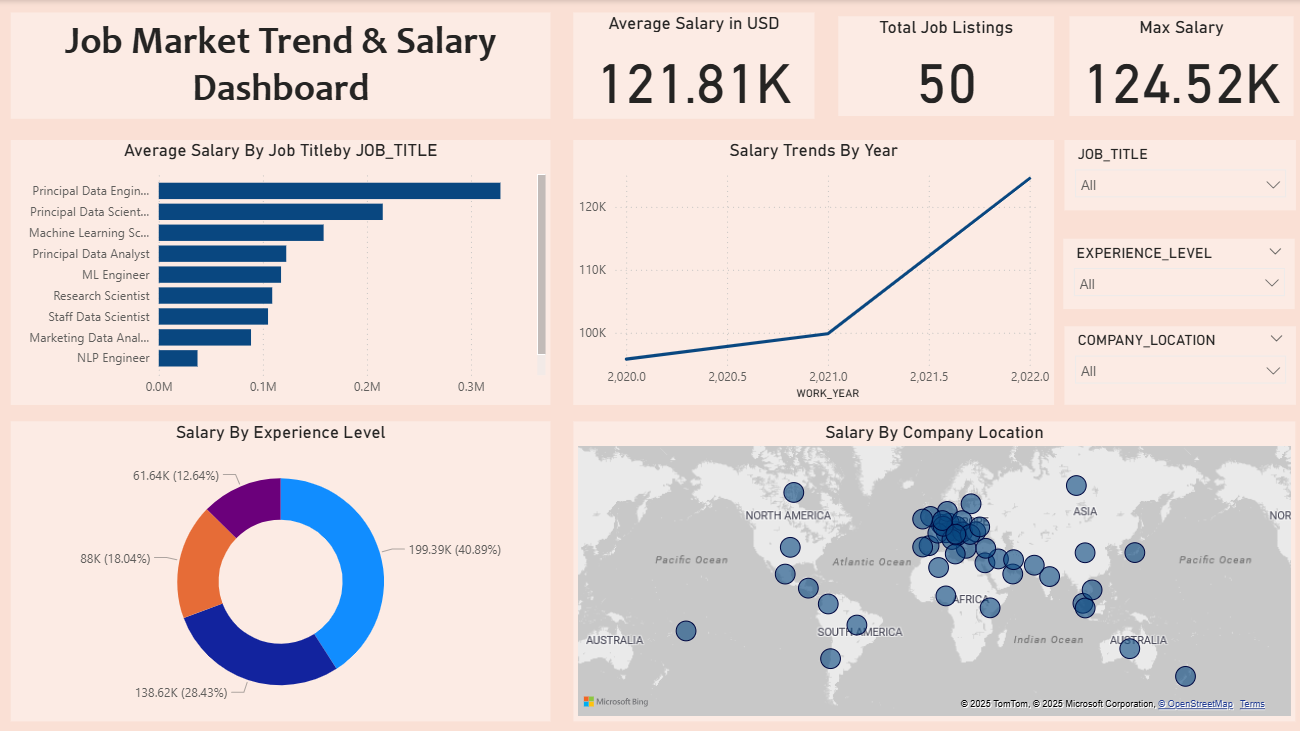

Layout of this report page (visuals, bound fields, positions):
{"tool":"powerbi","page":{"name":"Dashboard","canvas":[1280,720],"ordinal":0},"visuals":[{"type":"card","title":"Average Salary in USD","fields":{"Values":["AVG_SALARY_BY_JOB.Average Salary (USD)"]},"box":[564,12.3,236,104.3],"z":0},{"type":"card","title":"Total Job Listings","fields":{"Values":["REMOTE_SALARY_IMPACT.Total Job Listings"]},"box":[823.3,16.5,211.3,97.4],"z":1000},{"type":"card","title":"Max Salary","fields":{"Values":["AVG_SALARY_BY_JOB.Max Salary"]},"box":[1049.7,16.5,219.6,97.4],"z":2000},{"type":"barChart","title":"Average Salary By Job Titleby JOB_TITLE","fields":{"Category":["AVG_SALARY_BY_JOB.JOB_TITLE"],"Y":["Sum(AVG_SALARY_BY_JOB.AVG_SALARY_USD)"]},"box":[13.7,137.2,528.3,259.3],"z":3000},{"type":"donutChart","title":"Salary By Experience Level","fields":{"Y":["Sum(SALARY_BY_EXPERIENCE.AVG_SALARY_USD)"],"Category":["SALARY_BY_EXPERIENCE.EXPERIENCE_LEVEL"]},"box":[13.7,411.7,528.3,293.7],"z":4000},{"type":"map","title":"Salary By Company Location","fields":{"Size":["Sum(AVG_SALARY_BY_JOB.AVG_SALARY_USD)"],"Category":["SALARY_BY_LOCATION.COMPANY_LOCATION"]},"box":[564,411.7,706.7,293.7],"z":5000},{"type":"lineChart","title":"Salary Trends By Year","fields":{"Category":["SALARY_TREND_BY_YEAR.WORK_YEAR"],"Y":["Sum(SALARY_TREND_BY_YEAR.AVG_SALARY_USD)"]},"box":[564,137.2,470.7,259.3],"z":6000},{"type":"slicer","fields":{"Values":["SALARY_BY_EXPERIENCE.EXPERIENCE_LEVEL"]},"box":[1042.9,233.3,226.4,68.6],"z":7000},{"type":"slicer","fields":{"Values":["AVG_SALARY_BY_JOB.JOB_TITLE"]},"box":[1044.3,137.2,226.4,68.6],"z":8000},{"type":"slicer","fields":{"Values":["SALARY_BY_LOCATION.COMPANY_LOCATION"]},"box":[1044.3,319.7,226.4,76.8],"z":9000},{"type":"textbox","box":[13.7,12.3,528.3,104.3],"z":10000}]}

Visuals, with their boxes in screenshot pixels (x1, y1, x2, y2), scaled from the page's 1280x720 canvas onto the 1300x731 screenshot:
"Average Salary in USD" card: left=573, top=12, right=812, bottom=118
"Total Job Listings" card: left=836, top=17, right=1051, bottom=116
"Max Salary" card: left=1066, top=17, right=1289, bottom=116
"Average Salary By Job Titleby JOB_TITLE" barChart: left=14, top=139, right=550, bottom=403
"Salary By Experience Level" donutChart: left=14, top=418, right=550, bottom=716
"Salary By Company Location" map: left=573, top=418, right=1291, bottom=716
"Salary Trends By Year" lineChart: left=573, top=139, right=1051, bottom=403
slicer - SALARY_BY_EXPERIENCE.EXPERIENCE_LEVEL: left=1059, top=237, right=1289, bottom=307
slicer - AVG_SALARY_BY_JOB.JOB_TITLE: left=1061, top=139, right=1291, bottom=209
slicer - SALARY_BY_LOCATION.COMPANY_LOCATION: left=1061, top=325, right=1291, bottom=403
textbox: left=14, top=12, right=550, bottom=118
